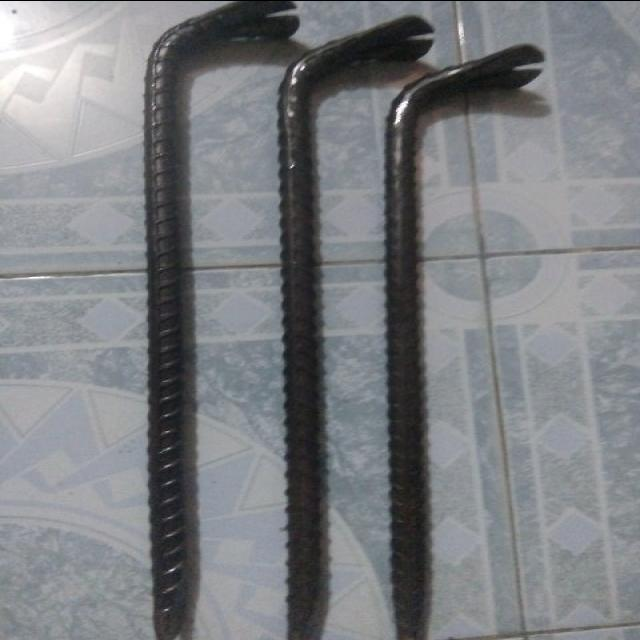Linggis: (278, 16, 436, 640)
